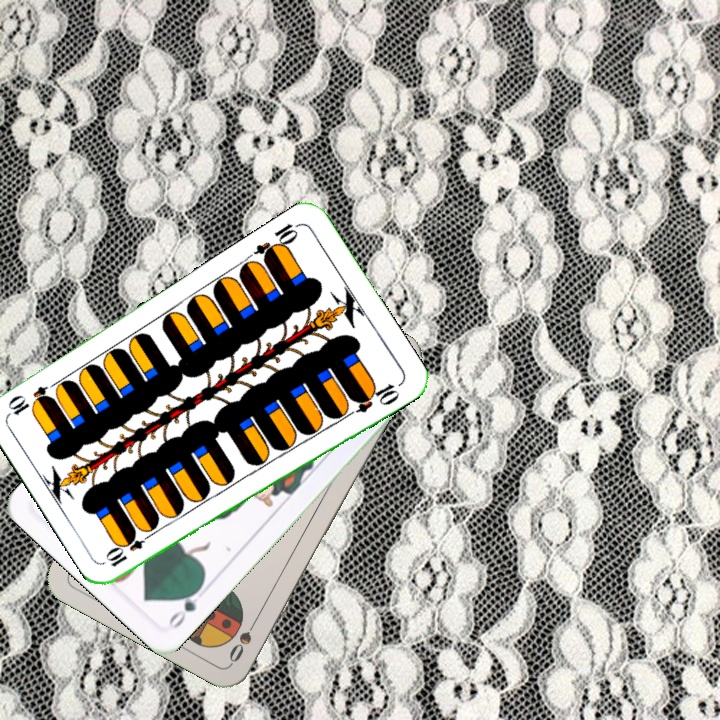E10: (250, 219, 303, 265), (103, 528, 156, 570)
GO: (162, 581, 205, 632)
SO: (224, 611, 262, 666)
